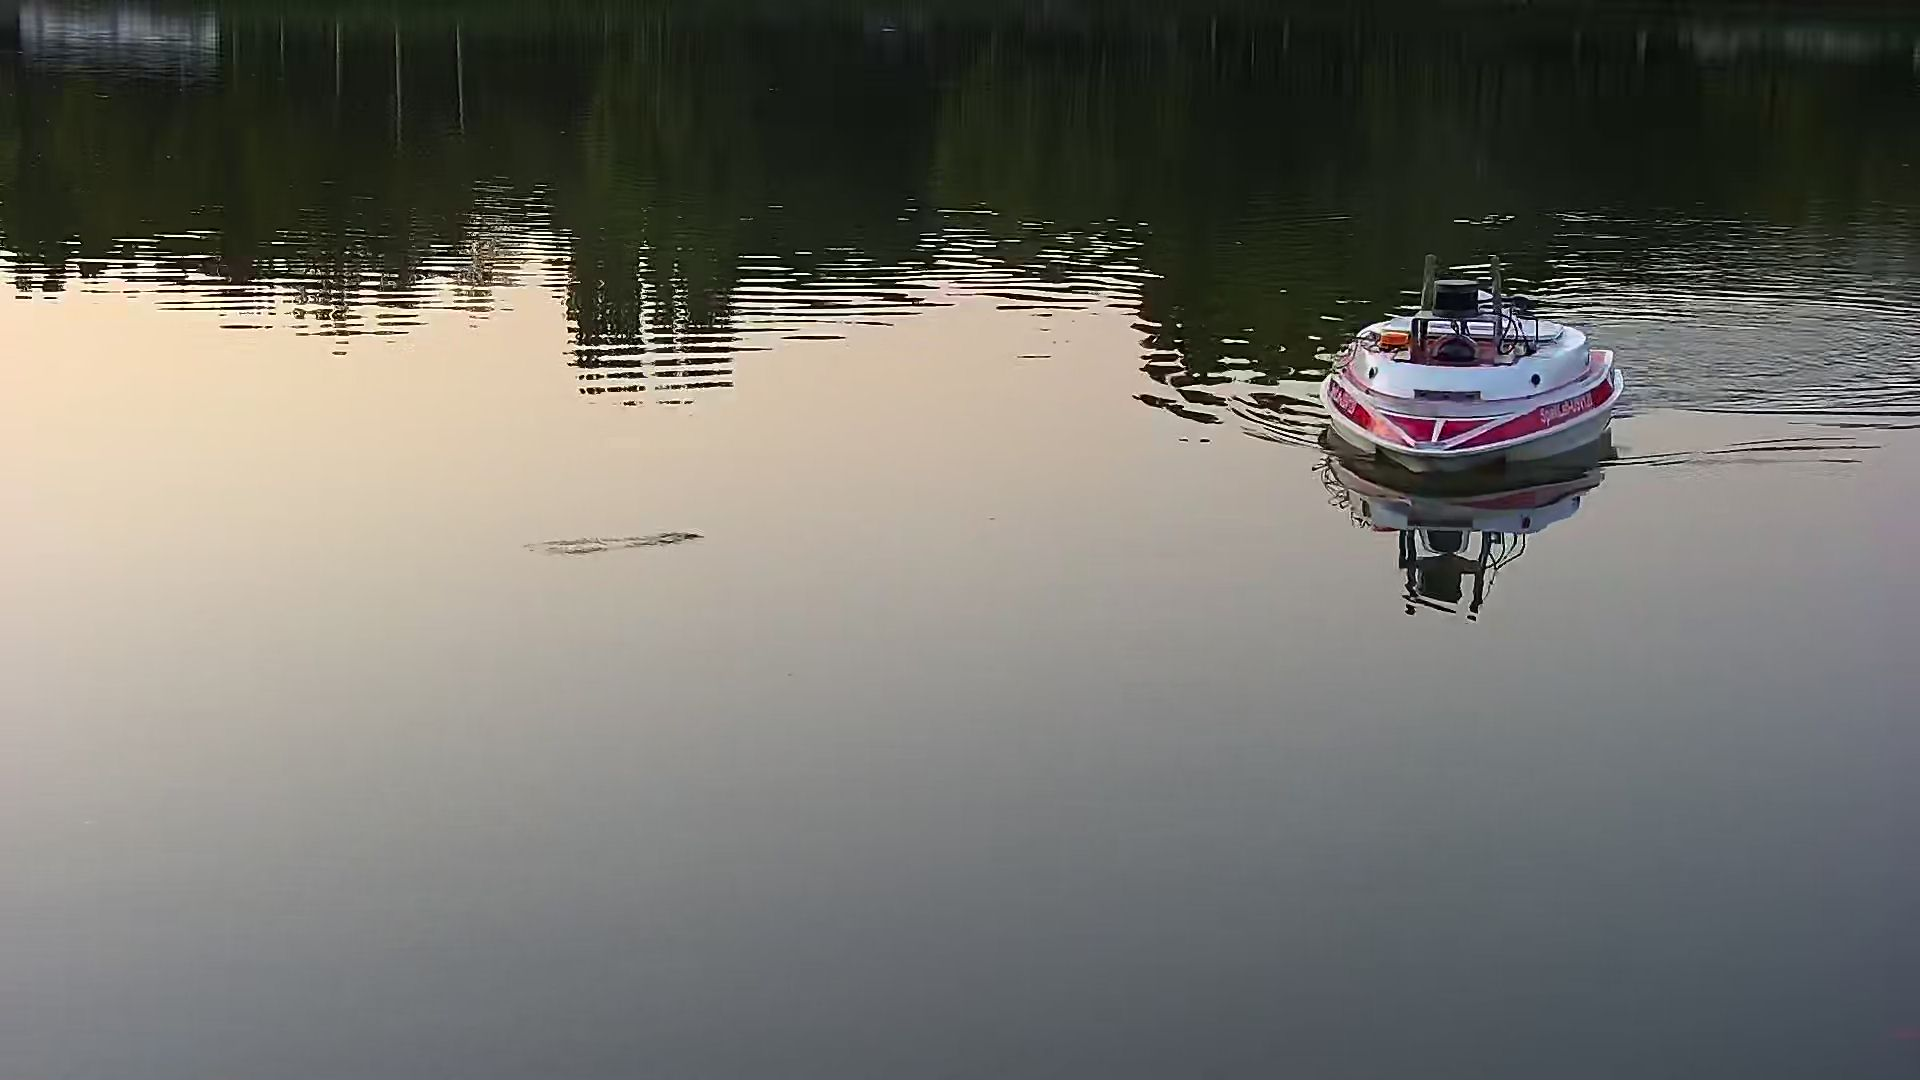boat: (1323, 247, 1631, 496)
